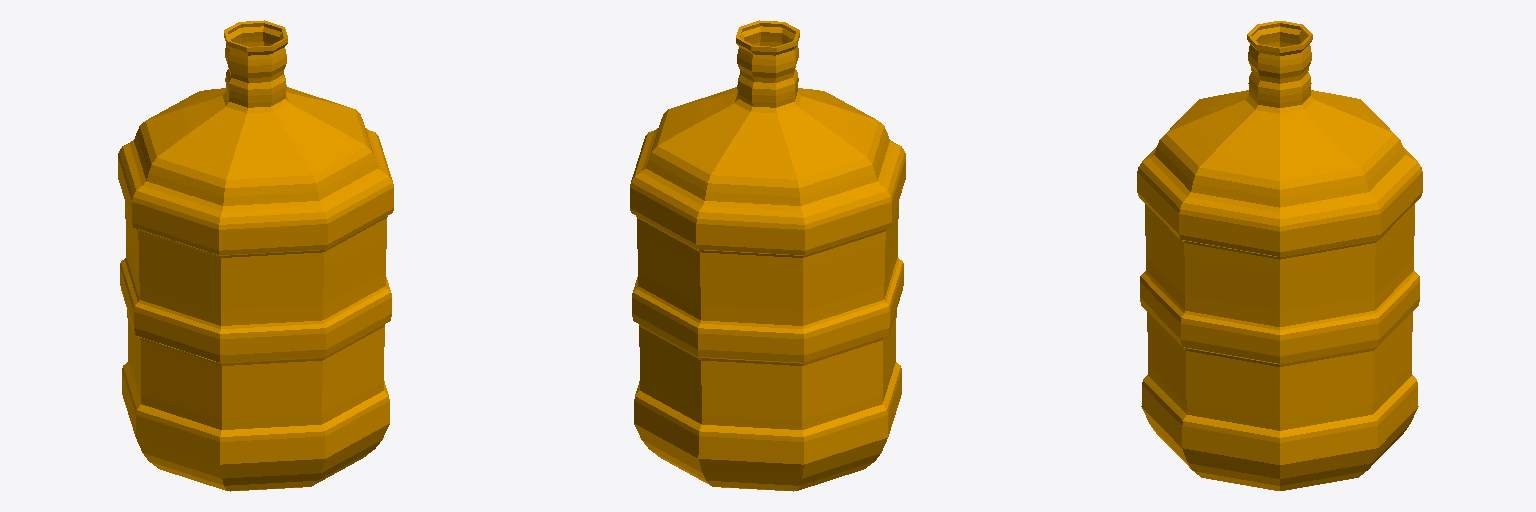
The robot description file, URDF, robot "big_water_bottle":
<robot name="big_water_bottle">
  <link name="big_water_bottle">
    <inertial>
      <origin xyz="0 0 0.0145"/>
      <mass value="0.1" />
      <inertia  ixx="0.0001" ixy="0.0"  ixz="0.0"  iyy="0.0001"  iyz="0.0"  izz="0.0001" />
    </inertial>
    <visual>
      <origin xyz="0 0 0.0145"/>
      <geometry>        
     <mesh filename="big_water_bottle.dae" scale="1 1 1"/>
    </geometry>
    </visual>
    <collision>
      <origin xyz="0 0 0.0145"/>
      <geometry>
        <box size="0.029 0.029 0.029"/>
      </geometry>
    </collision>
  </link>
  <gazebo reference="big_water_bottle">
    <material>Gazebo/Blue</material>
  </gazebo>
</robot>

--- What the picture shows (computed from the rendered views, not written in the file) ---
The picture shows the robot from 3 angles, left to right: view 1: azimuth 30°, elevation 25°; view 2: azimuth 150°, elevation 25°; view 3: azimuth 270°, elevation 25°; orthographic projection.
Model big_water_bottle with 1 links and 0 joints (none), rooted at big_water_bottle, posed every joint at zero.
Visible links, largest first — view 1: big_water_bottle; view 2: big_water_bottle; view 3: big_water_bottle.
Link boxes in pixels (x1,y1,x2,y2): big_water_bottle: [118, 20, 393, 491]; big_water_bottle: [630, 20, 905, 491]; big_water_bottle: [1137, 21, 1422, 490].
Size in the robot's own frame: 0.2899 by 0.2899 by 0.4723 metres.
1 mesh visuals loaded from 1 distinct referenced files (1 Collada DAE).